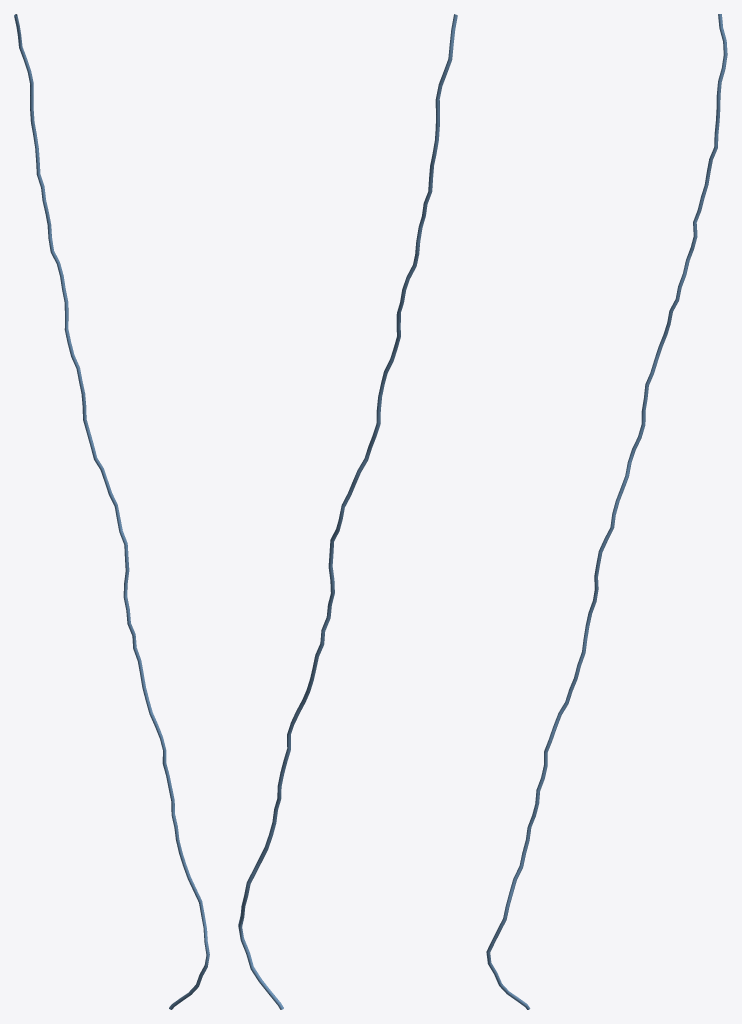
Rendered from sweep301.fbx.
3 views of the same model, side by side, from view 1: azimuth 30°, elevation 25°; view 2: azimuth 210°, elevation 25°; view 3: azimuth 270°, elevation 25° (orthographic). The views are drawn at different scales.
Parts seen in each view (by area): view 1: sweep301; view 2: sweep301; view 3: sweep301.
Boxes of the visible parts, <box> form: sweep301: <box>14,14,209,1009</box>; sweep301: <box>238,14,457,1009</box>; sweep301: <box>486,14,727,1009</box>.
Size of the model in its own units: 0.5163 by 5.44 by 1.23.
